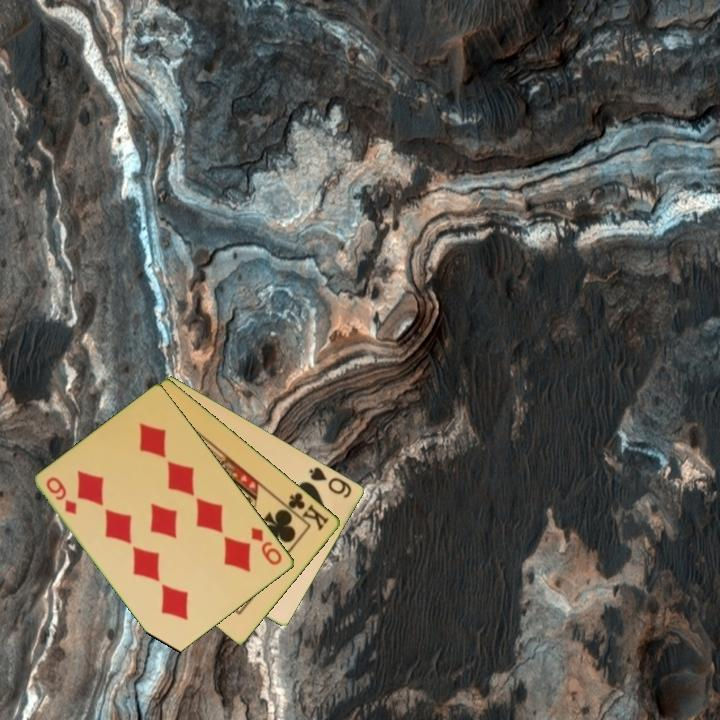6s: (306, 463, 355, 501)
9d: (43, 473, 80, 518), (248, 524, 285, 568)
Kc: (279, 489, 332, 534)
